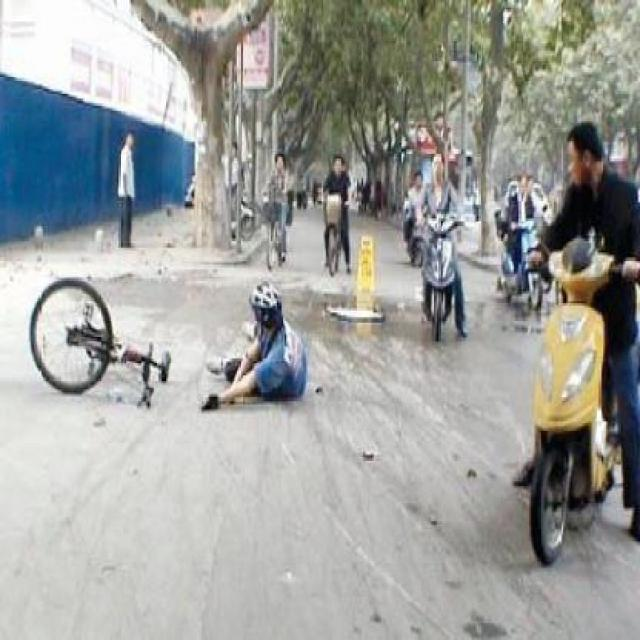fall: (198, 264, 314, 418)
